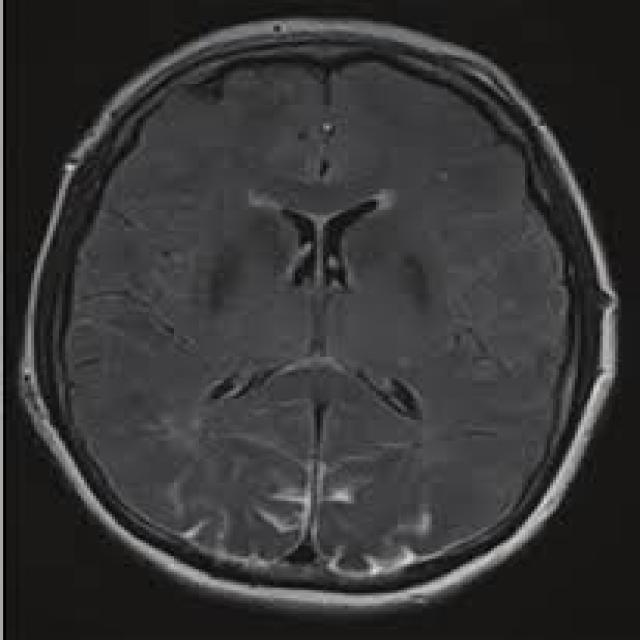notumor: (31, 18, 621, 624)
